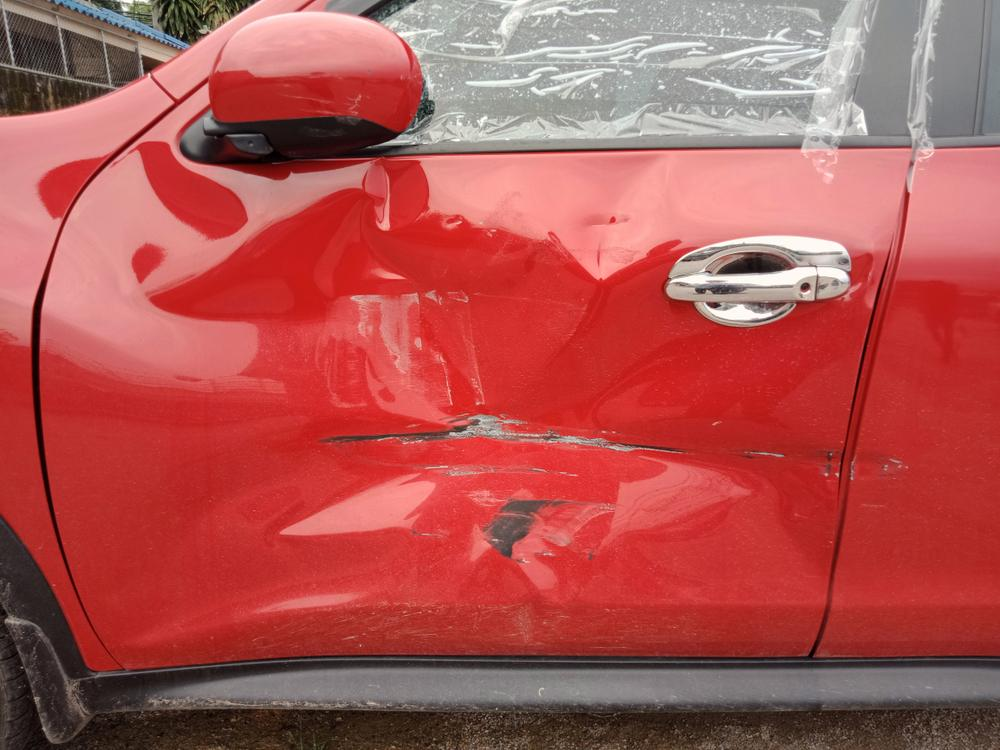dent: (147, 156, 874, 618)
